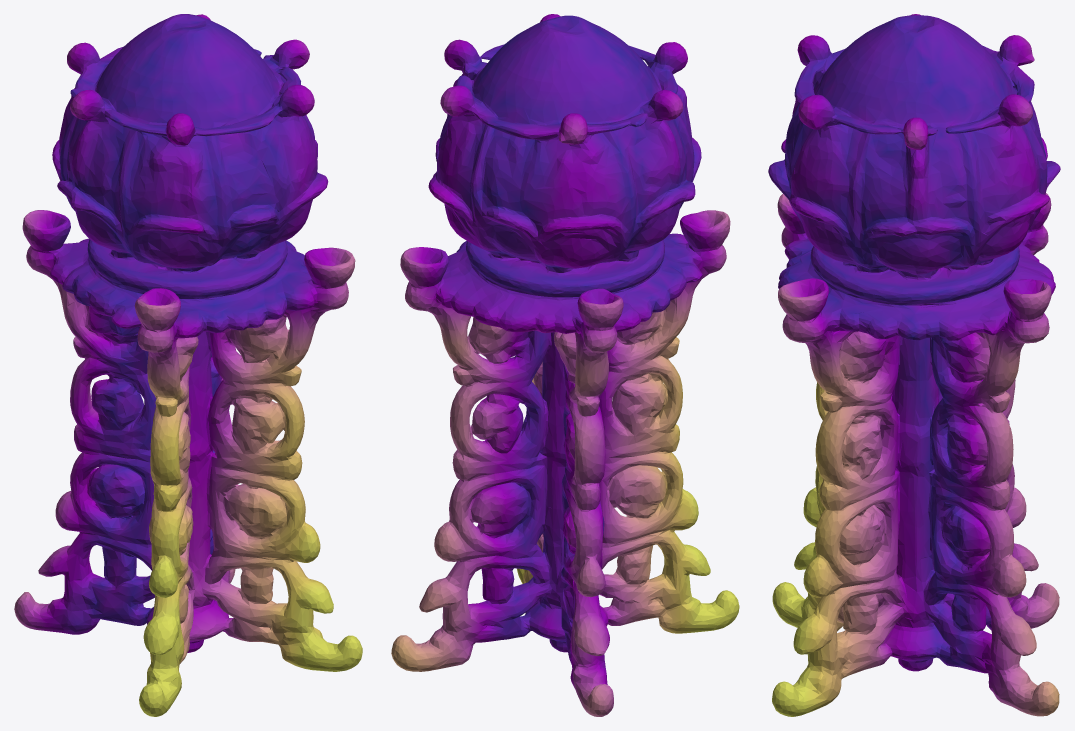
File: iter_4.glb
The picture shows the model from 3 angles, left to right: view 1: azimuth 30°, elevation 25°; view 2: azimuth 150°, elevation 25°; view 3: azimuth 270°, elevation 25°; orthographic projection. The views are drawn at different scales.
Visible parts, largest first — view 1: textured_mesh; view 2: textured_mesh; view 3: textured_mesh.
Boxes of the visible parts, x1,y1,x2,y2 form: textured_mesh: (14, 14, 362, 716); textured_mesh: (391, 14, 739, 716); textured_mesh: (768, 14, 1060, 716).
Size of the model in its own units: 0.8134 by 1.99 by 0.8145.
